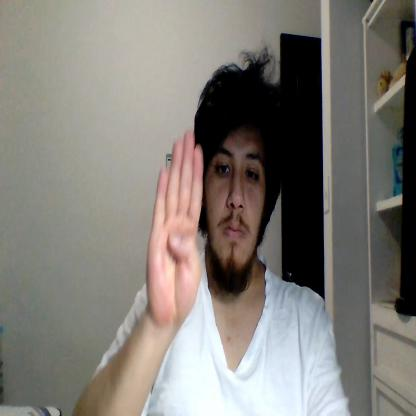B: (146, 128, 204, 325)
